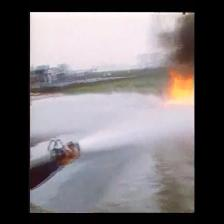fire: (169, 78, 193, 100)
smoke: (170, 18, 193, 65)
